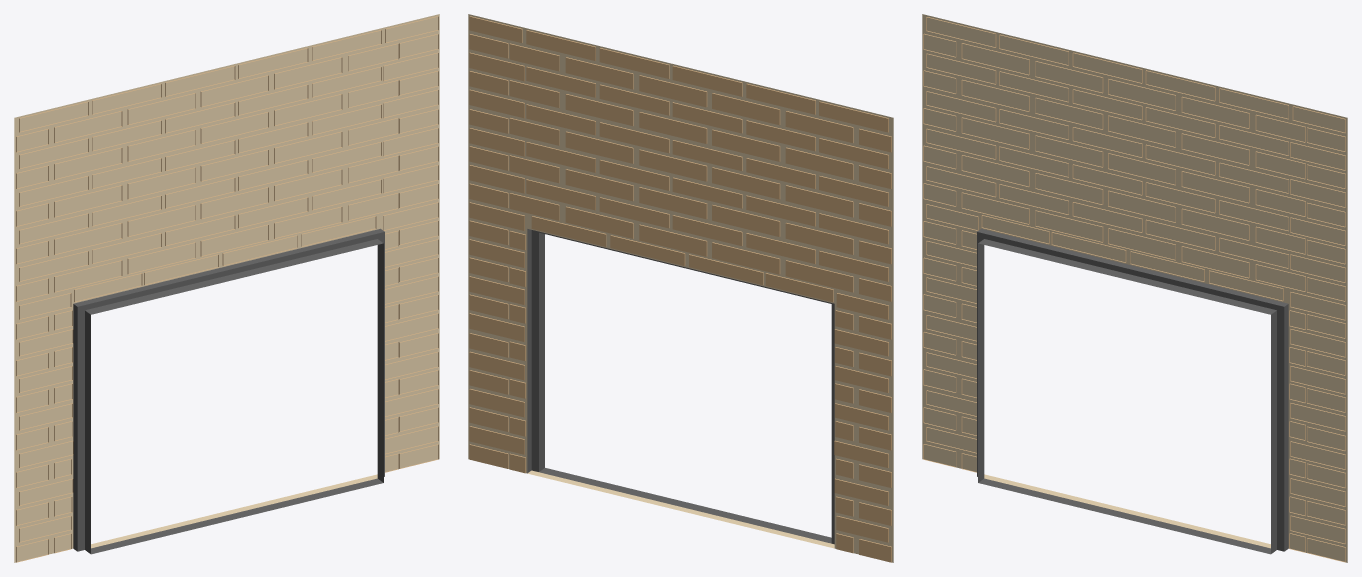
File: AA_BaksteenDeurframeDubbel_LOD0.fbx
3 renders of one model, left to right at view 1: azimuth 30°, elevation 25°; view 2: azimuth 150°, elevation 25°; view 3: azimuth 330°, elevation 25°, orthographic.
Visible parts, largest first — view 1: AA_BaksteenDeurframeDubbel.002_Cube.052; view 2: AA_BaksteenDeurframeDubbel.002_Cube.052; view 3: AA_BaksteenDeurframeDubbel.002_Cube.052.
Boxes of the visible parts, <box> form: AA_BaksteenDeurframeDubbel.002_Cube.052: <box>14,14,439,562</box>; AA_BaksteenDeurframeDubbel.002_Cube.052: <box>468,14,893,562</box>; AA_BaksteenDeurframeDubbel.002_Cube.052: <box>922,14,1347,562</box>.
Size of the model in its own units: 4 by 4 by 0.1801.
